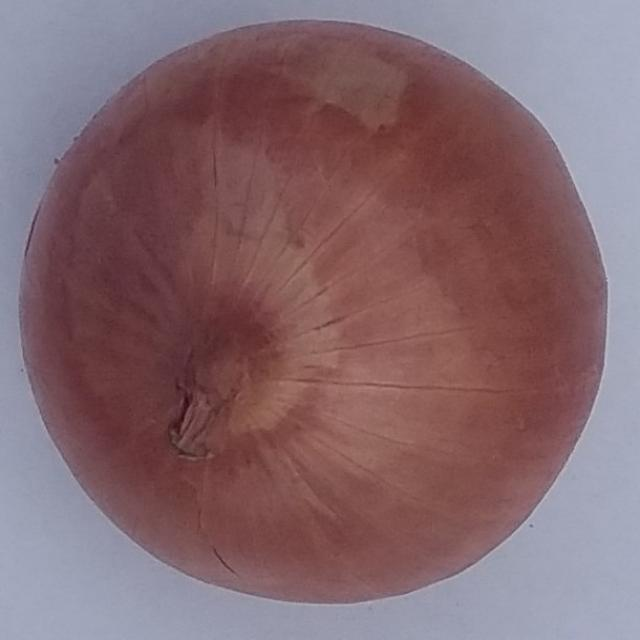onion: (16, 18, 610, 607)
